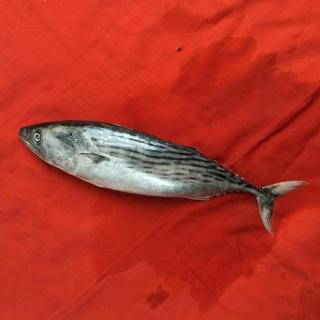Ikan: (15, 116, 307, 248)
